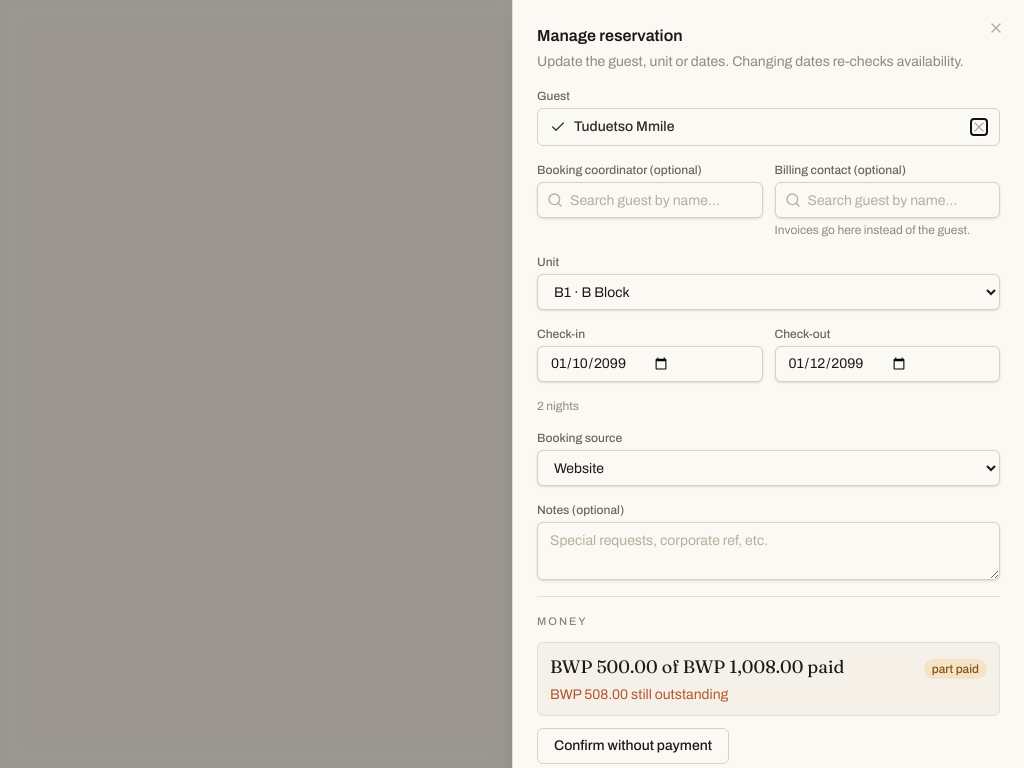
it: ReservationFormDrawer — the money on a booking › says next to the date that a stay can’t be moved into the past, and offers no Save
The image size is (1024, 768).
In the date field labelled "Check-in": x=650, y=364 [537,346,762,382], type "2001-01-01"
(page scrolled)
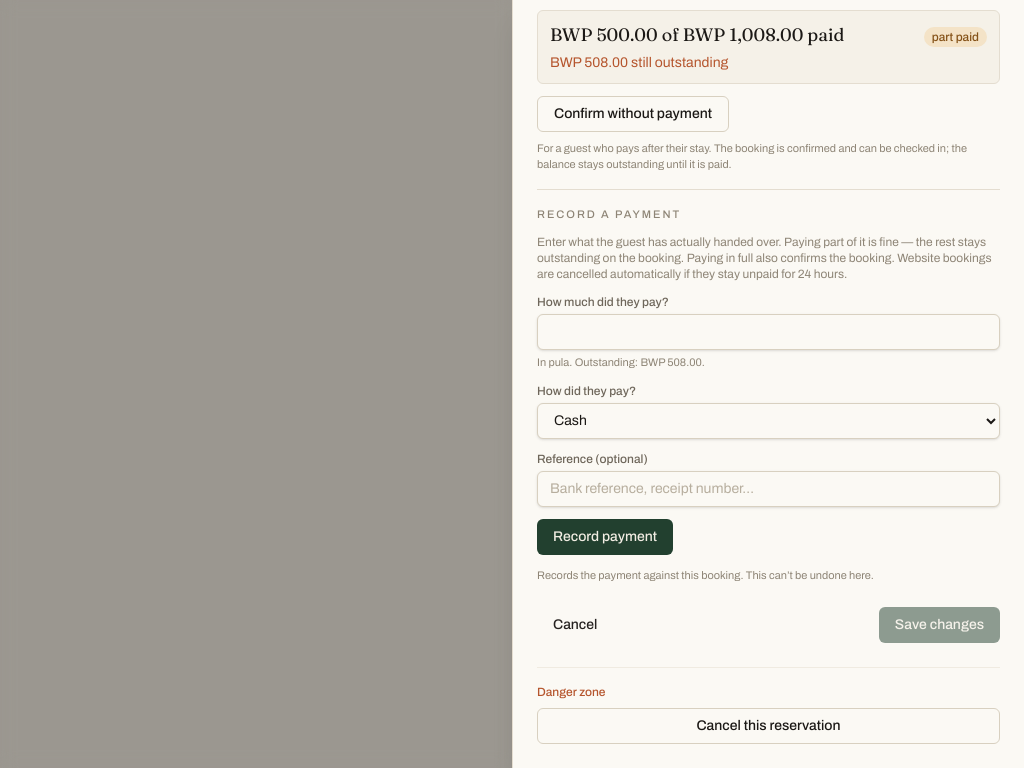
Result: the button "Save changes" is disabled at [879,607,1000,643]
